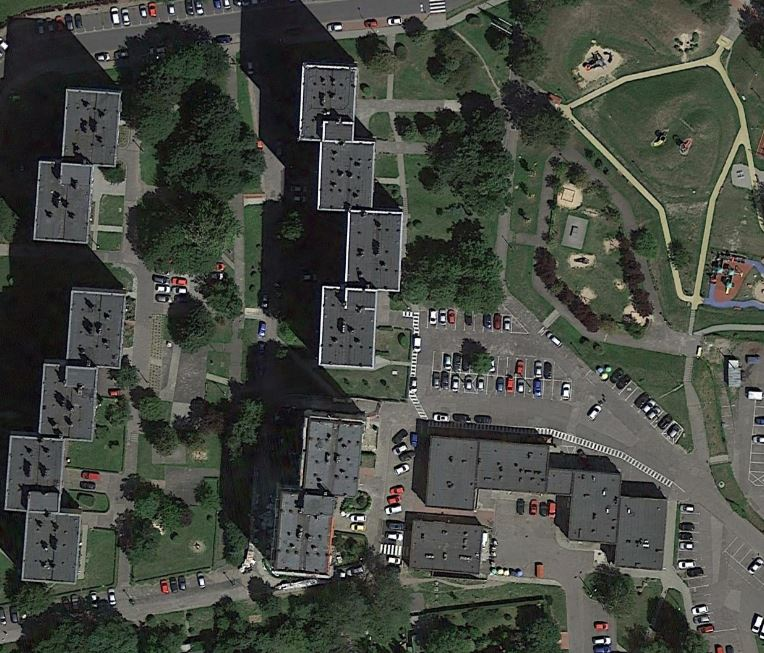block of flats: (1, 284, 133, 587), (291, 55, 409, 372), (420, 427, 667, 575), (265, 403, 374, 582), (24, 85, 132, 247), (404, 516, 497, 578)
